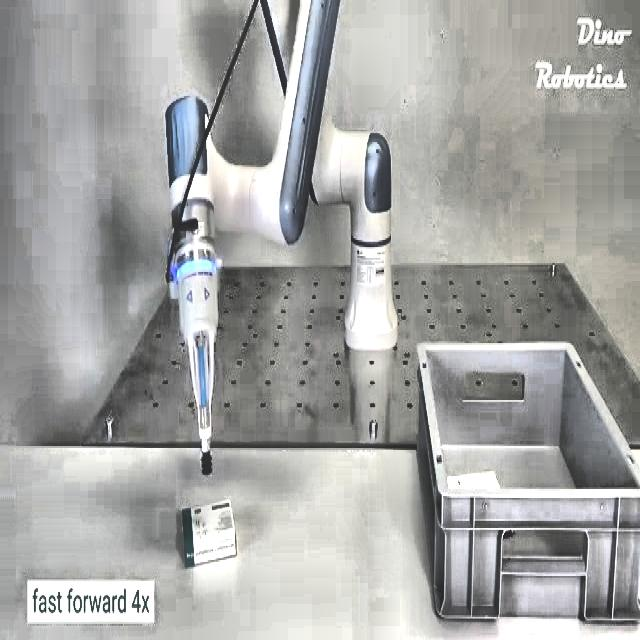robot: (163, 0, 398, 473)
